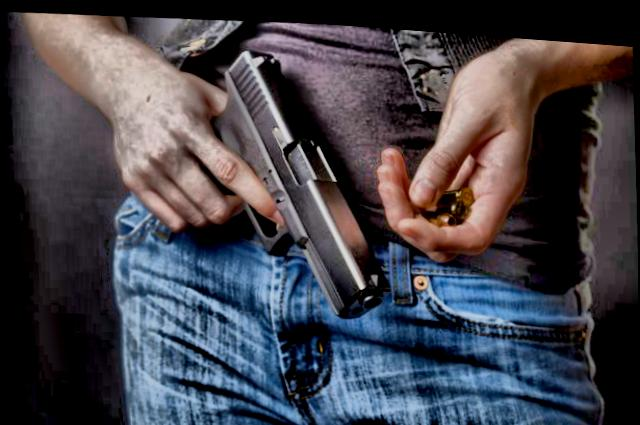pistol: (164, 33, 393, 331)
